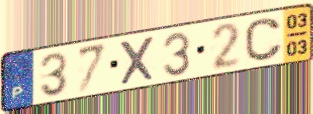2: (210, 22, 242, 72)
3: (38, 50, 70, 99), (161, 30, 193, 78)
7: (77, 40, 108, 96)
C: (243, 16, 285, 63)
X: (118, 34, 157, 88)
